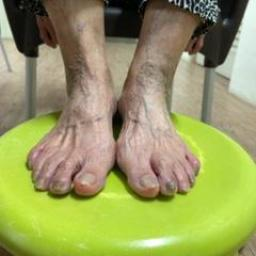Front View -Both Feet-: (12, 54, 228, 218)
